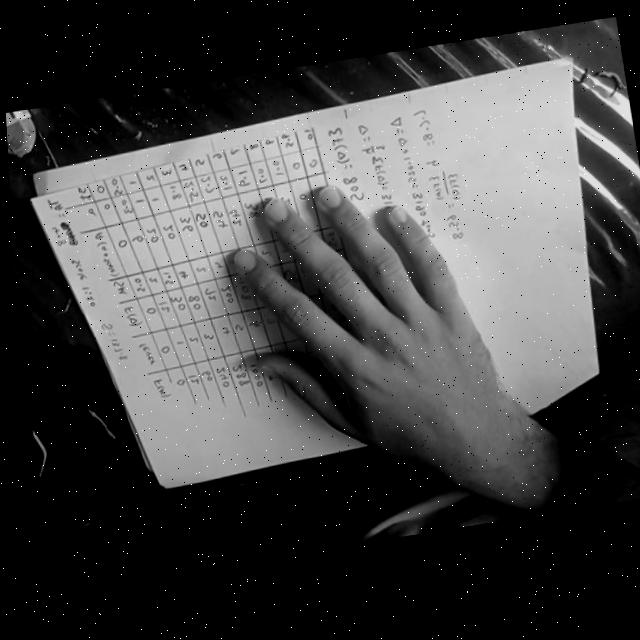document: (31, 60, 599, 488)
